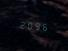nine: (32, 19, 38, 31)
six: (39, 20, 45, 32)
two: (18, 18, 24, 30)
zero: (25, 19, 31, 30)
